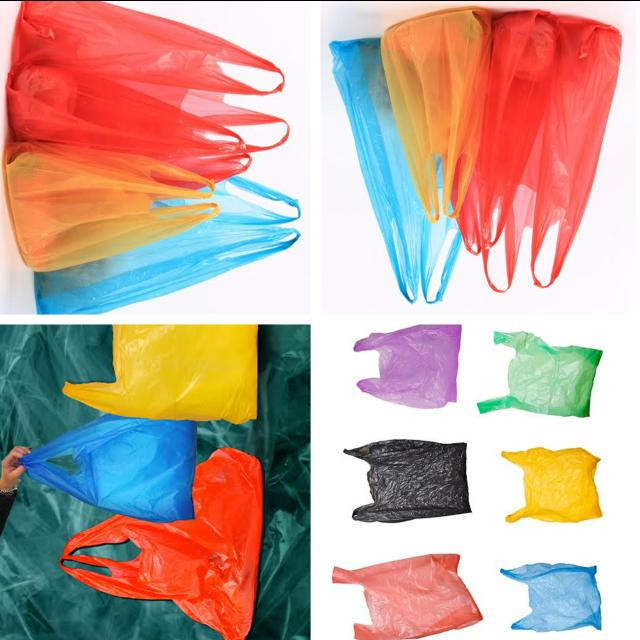plastik: (3, 0, 288, 271), (7, 0, 288, 180), (456, 10, 621, 290), (59, 446, 263, 639), (34, 175, 300, 313), (330, 37, 462, 302), (12, 0, 285, 125), (381, 8, 492, 222), (63, 324, 257, 423), (20, 413, 197, 521), (333, 553, 482, 639), (478, 330, 602, 417), (344, 439, 470, 521), (354, 324, 461, 408), (501, 446, 601, 522), (500, 562, 601, 631)
